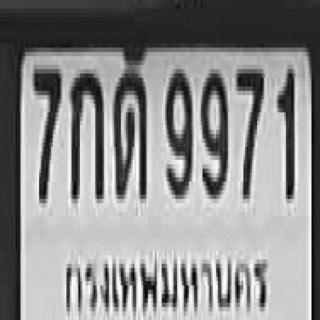A01: (70, 67, 102, 197)
A20: (112, 69, 145, 195)
N01: (276, 65, 293, 195)
N07: (32, 65, 60, 199), (235, 65, 262, 195)
N09: (199, 65, 226, 195), (165, 65, 190, 195)
P04: (61, 242, 271, 320)
